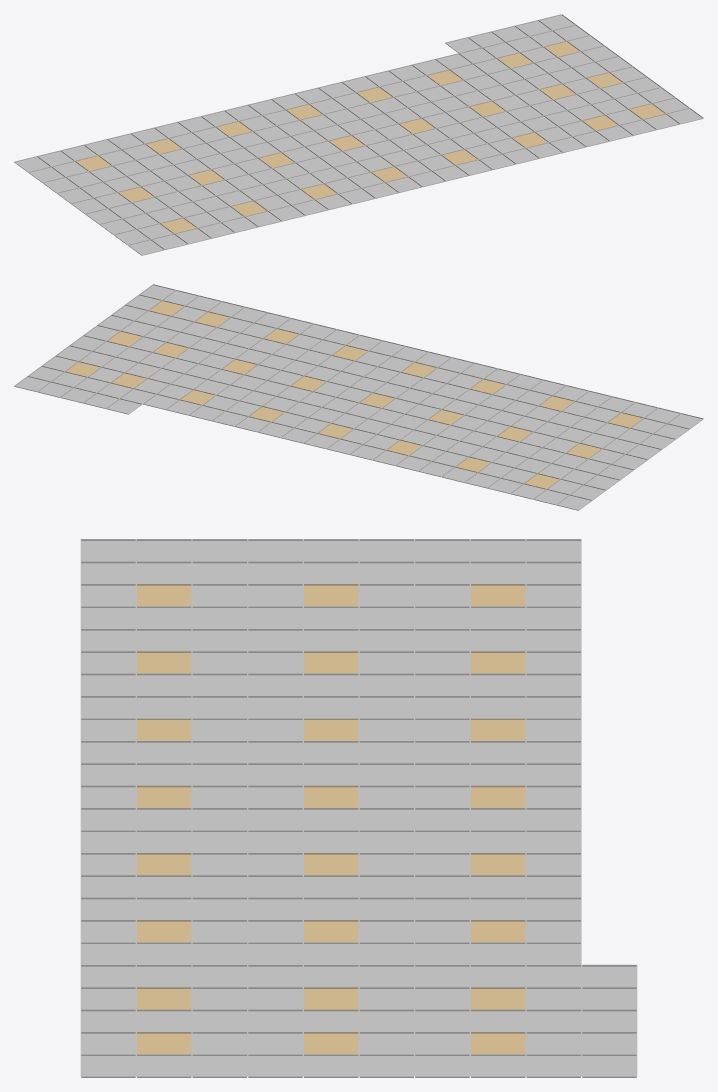
The model's file is Ceiling_1.fbx.
The picture shows the model from 3 angles, top to bottom: view 1: azimuth 30°, elevation 25°; view 2: azimuth 150°, elevation 25°; view 3: azimuth 270°, elevation 25°; orthographic projection. The views are drawn at different scales.
Parts seen in each view (by area): view 1: Ceiling; view 2: Ceiling; view 3: Ceiling.
Part boxes in pixels (<box>): Ceiling: <box>14,14,703,255</box>; Ceiling: <box>14,284,703,510</box>; Ceiling: <box>80,539,637,1077</box>.
Bounding box in the file's own units: 2880 × 4 × 1260.
